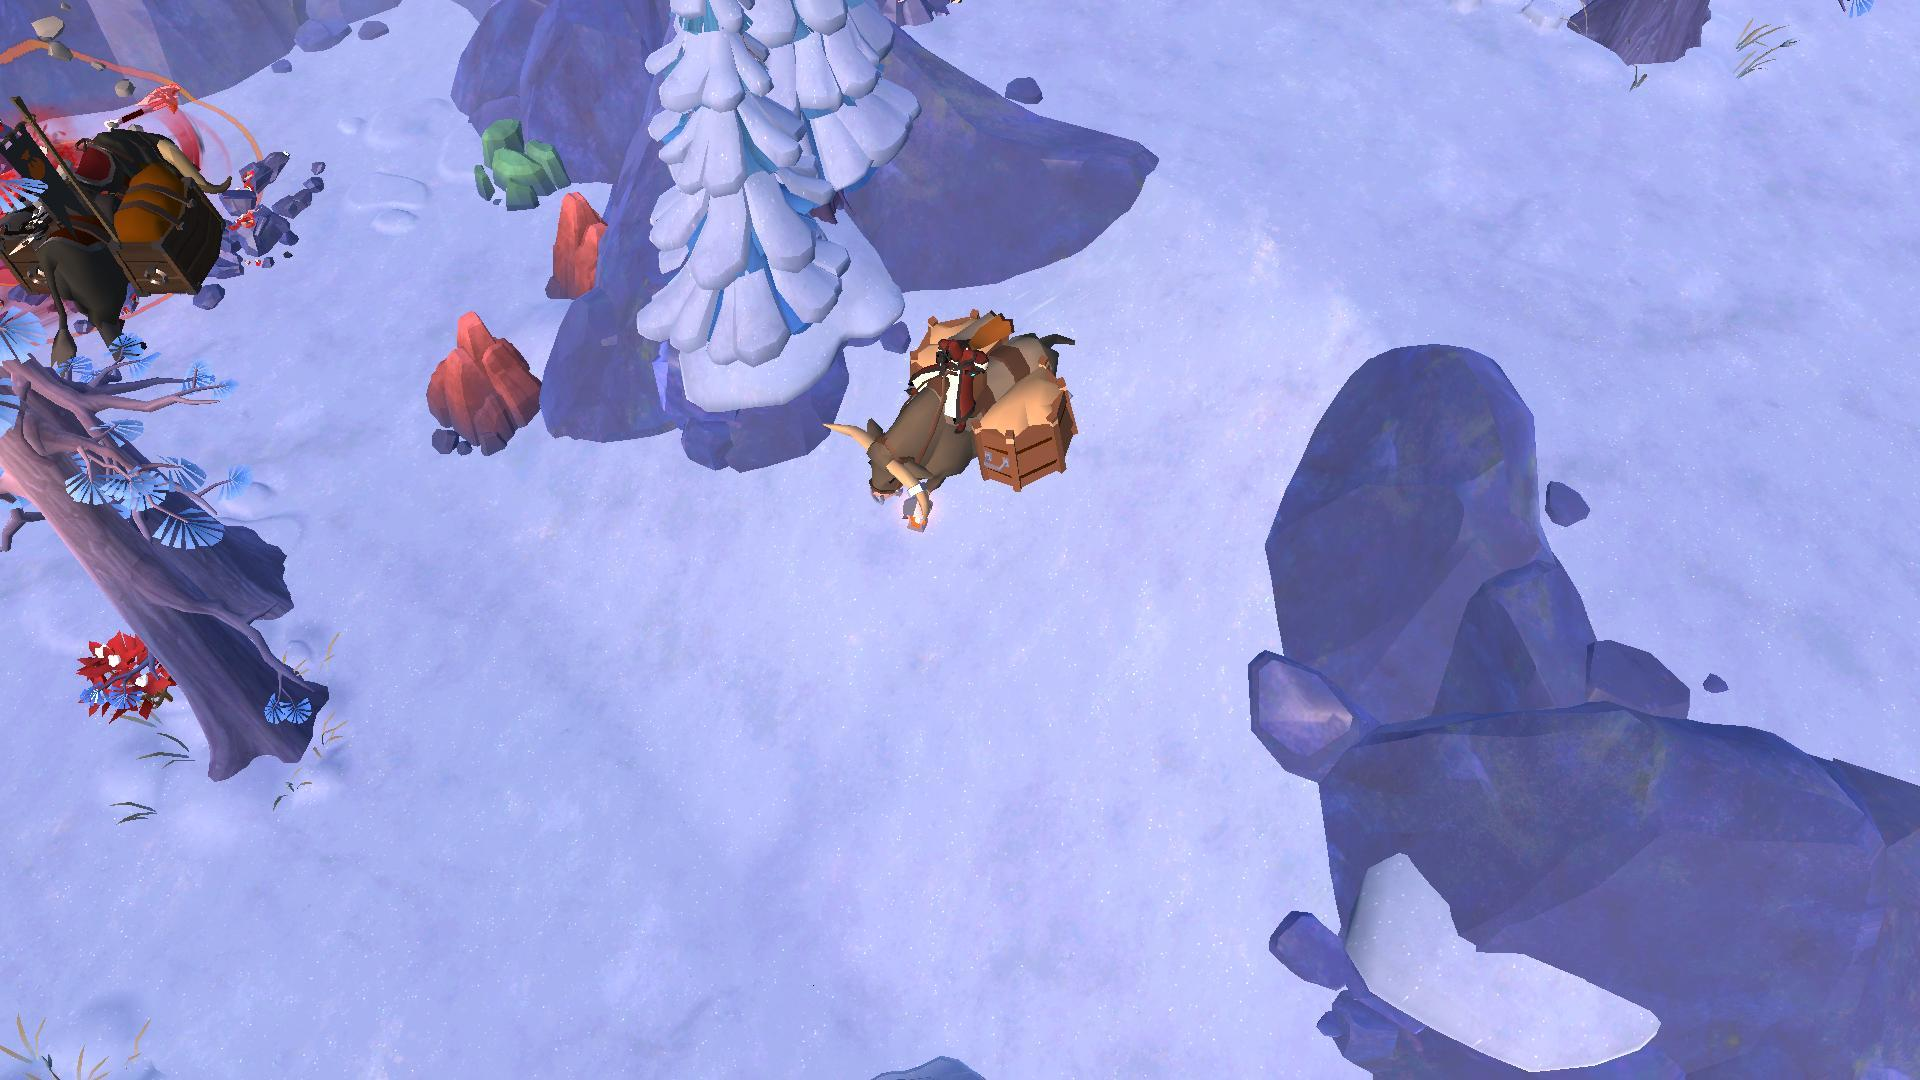fiber_t5: (80, 630, 181, 713)
rock_t3: (462, 113, 575, 214)
rock_t5: (413, 313, 550, 448), (541, 189, 621, 305)
